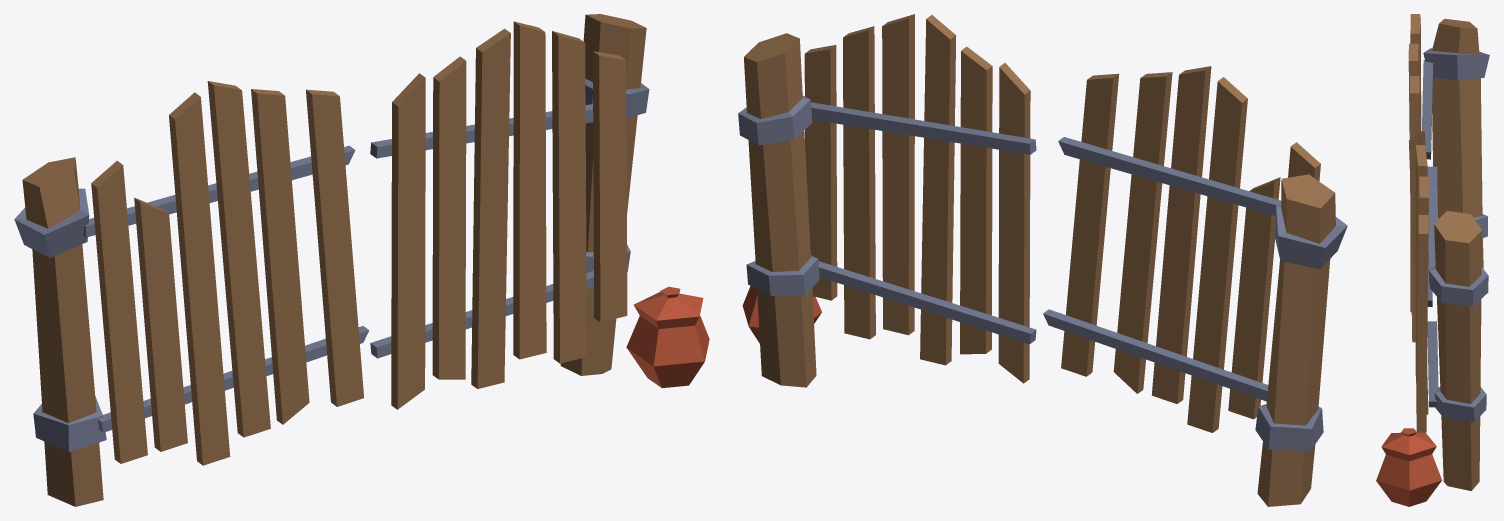
File: Gates.glb
3 views of the same model, side by side, from view 1: azimuth 30°, elevation 25°; view 2: azimuth 150°, elevation 25°; view 3: azimuth 270°, elevation 25° (orthographic). The views are drawn at different scales.
Visible parts, largest first — view 1: FenceGate2, FenceGate1, Post2, Post1, Pot; view 2: FenceGate1, FenceGate2, Post1, Post2, Pot; view 3: Post1, Post2, FenceGate1, Pot, FenceGate2.
Part boxes in pixels (x1,y1,x2,y2): FenceGate2: (83,81,368,465); FenceGate1: (370,21,627,409); Post2: (14,157,106,506); Post1: (560,14,649,375); Pot: (626,286,709,388); FenceGate1: (804,14,1036,383); FenceGate2: (1043,66,1320,432); Post1: (738,33,819,387); Post2: (1255,174,1347,506); Pot: (742,286,821,343); Post1: (1429,211,1488,490); Post2: (1423,18,1489,268); FenceGate1: (1408,131,1438,432); Pot: (1376,428,1441,506); FenceGate2: (1408,14,1433,342).
Bounding box in the file's own units: 639 × 377 × 124.
